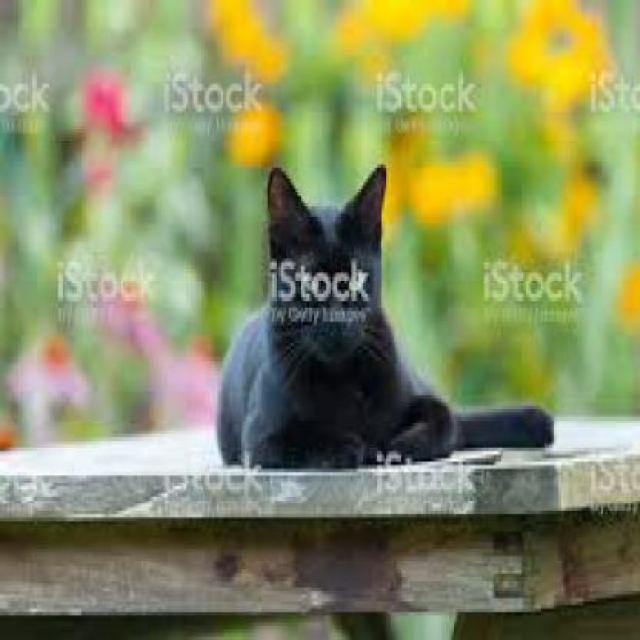animals: (212, 161, 568, 479)
